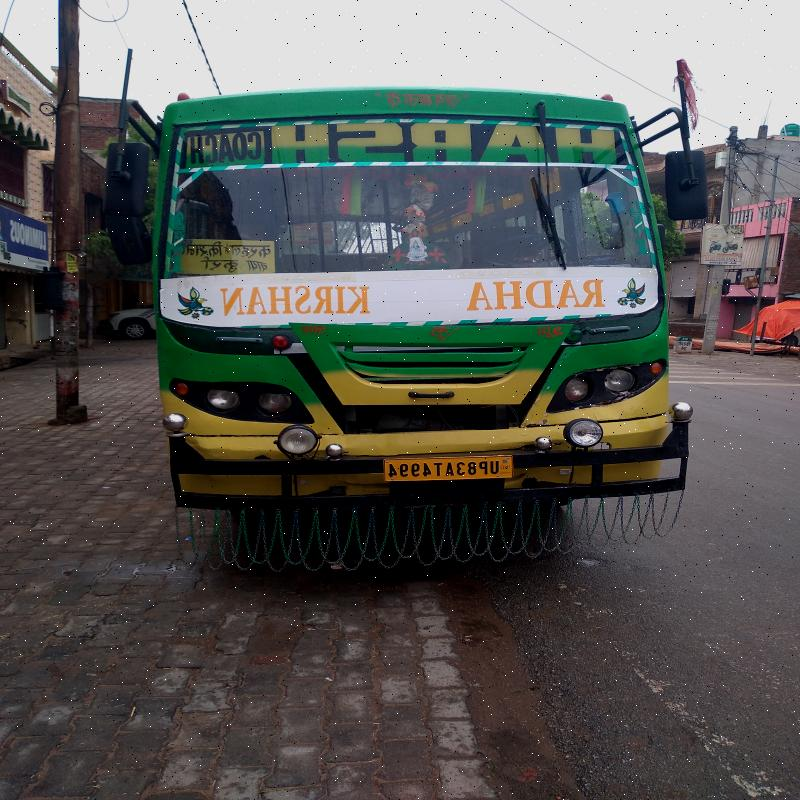bus: (168, 88, 659, 514)
